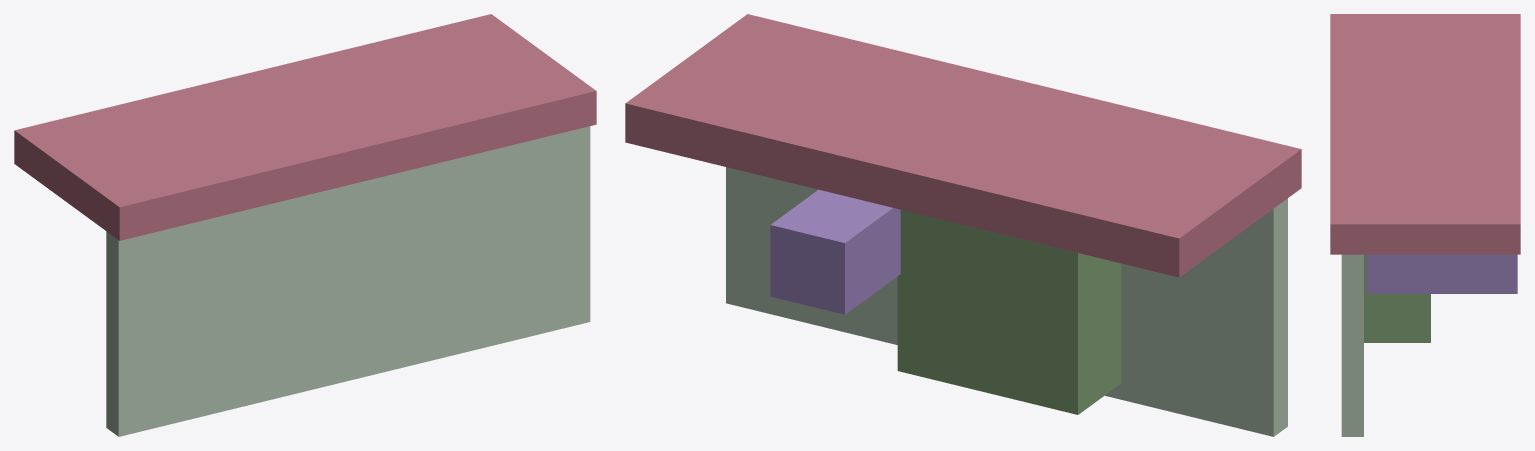
The model's file is 199536_pred.glb.
The picture shows the model from 3 angles, left to right: view 1: azimuth 30°, elevation 25°; view 2: azimuth 150°, elevation 25°; view 3: azimuth 270°, elevation 25°; orthographic projection. The views are drawn at different scales.
Parts seen in each view (by area): view 1: world; view 2: world; view 3: world.
Part boxes in pixels (x1,y1,x2,y2): world: (14, 14, 596, 436); world: (625, 14, 1301, 436); world: (1330, 14, 1520, 436).
Bounding box in the file's own units: 8.9 × 4.2 × 3.4.
